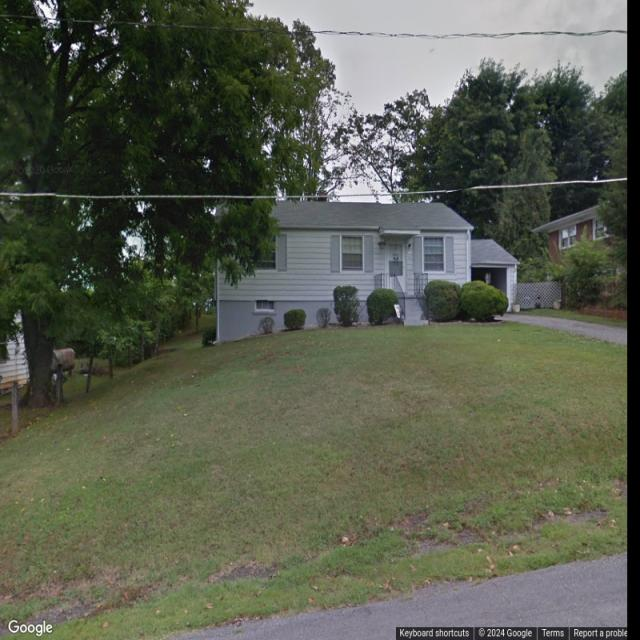House: (215, 202, 520, 344), (531, 205, 623, 282), (0, 308, 30, 396)
